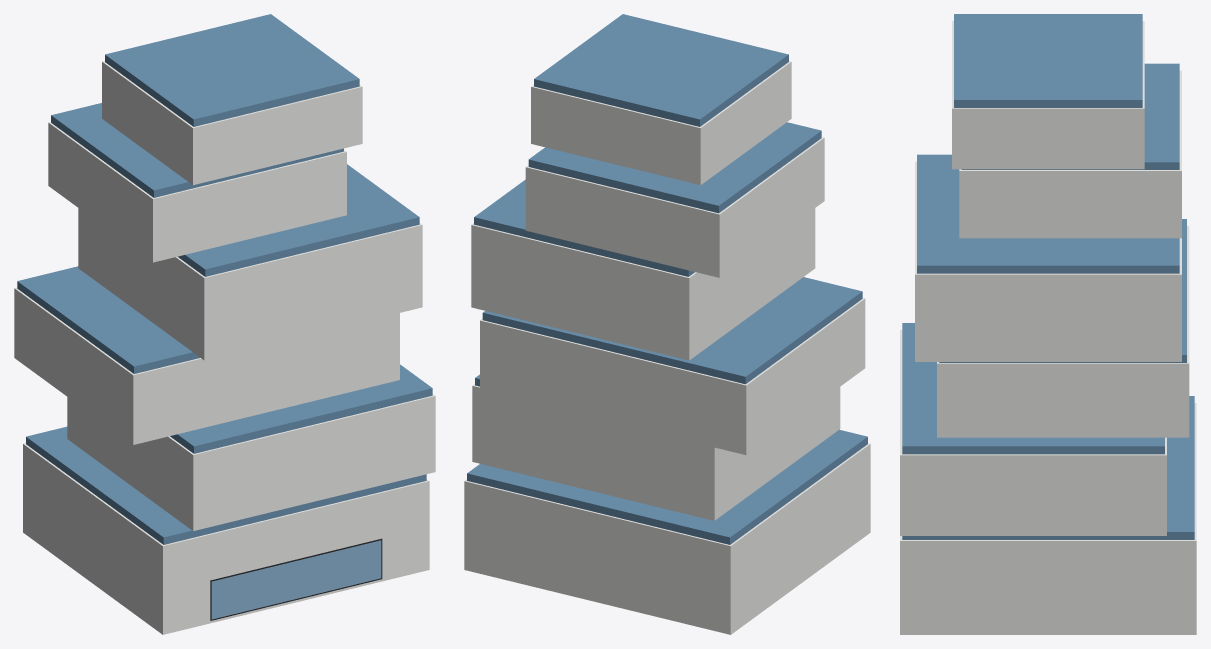
Rendered from musee_contemporain.glb.
3 renders of one model, left to right at view 1: azimuth 30°, elevation 25°; view 2: azimuth 150°, elevation 25°; view 3: azimuth 270°, elevation 25°, orthographic. The views are drawn at different scales.
Parts seen in each view (by area): view 1: musee_contemporain; view 2: musee_contemporain; view 3: musee_contemporain.
Boxes of the visible parts, x1,y1,x2,y2 form: musee_contemporain: [14, 14, 435, 634]; musee_contemporain: [464, 14, 870, 634]; musee_contemporain: [900, 14, 1196, 634].
Bounding box in the file's own units: 23.5 × 38.09 × 20.05.
Materials: 1 (1 with a texture image).
